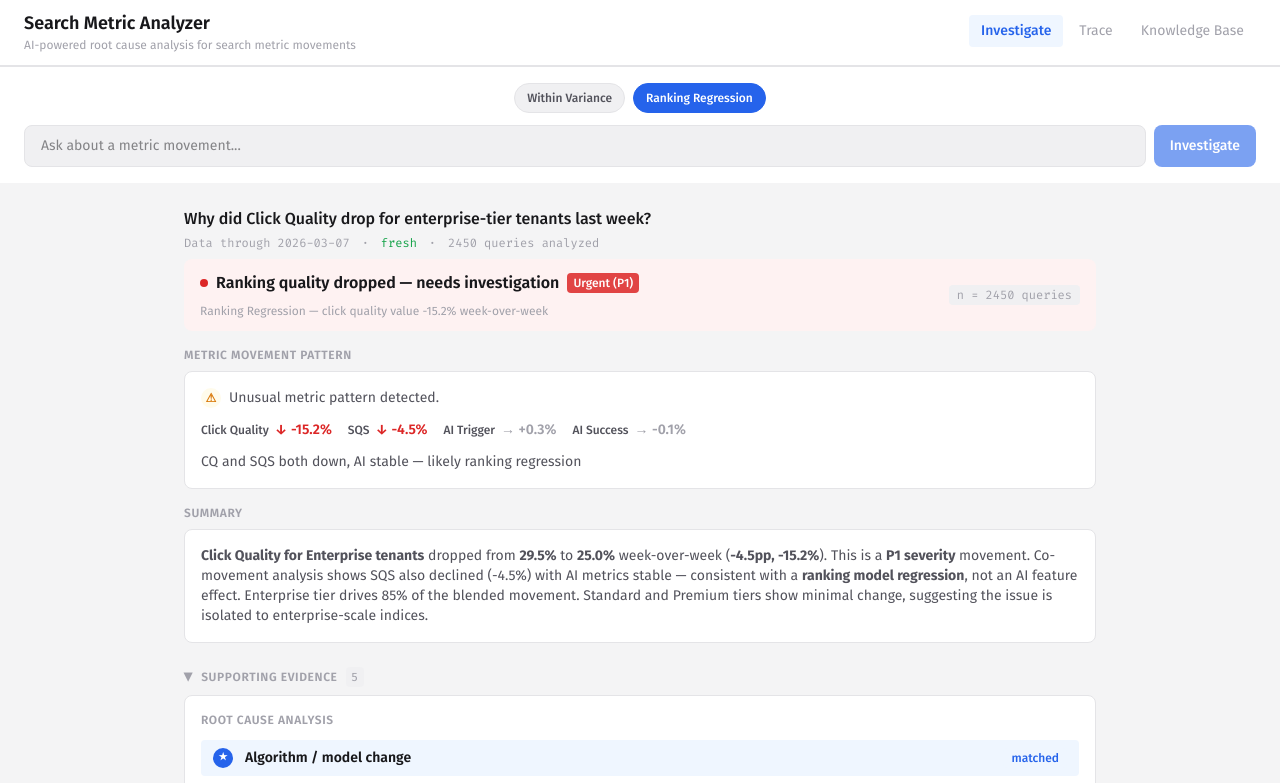
Scenario: App › switches to Trace tab when Trace button is clicked
Click the button "Trace" at (1096, 31), box [1067,15,1125,47]
(page scrolled)
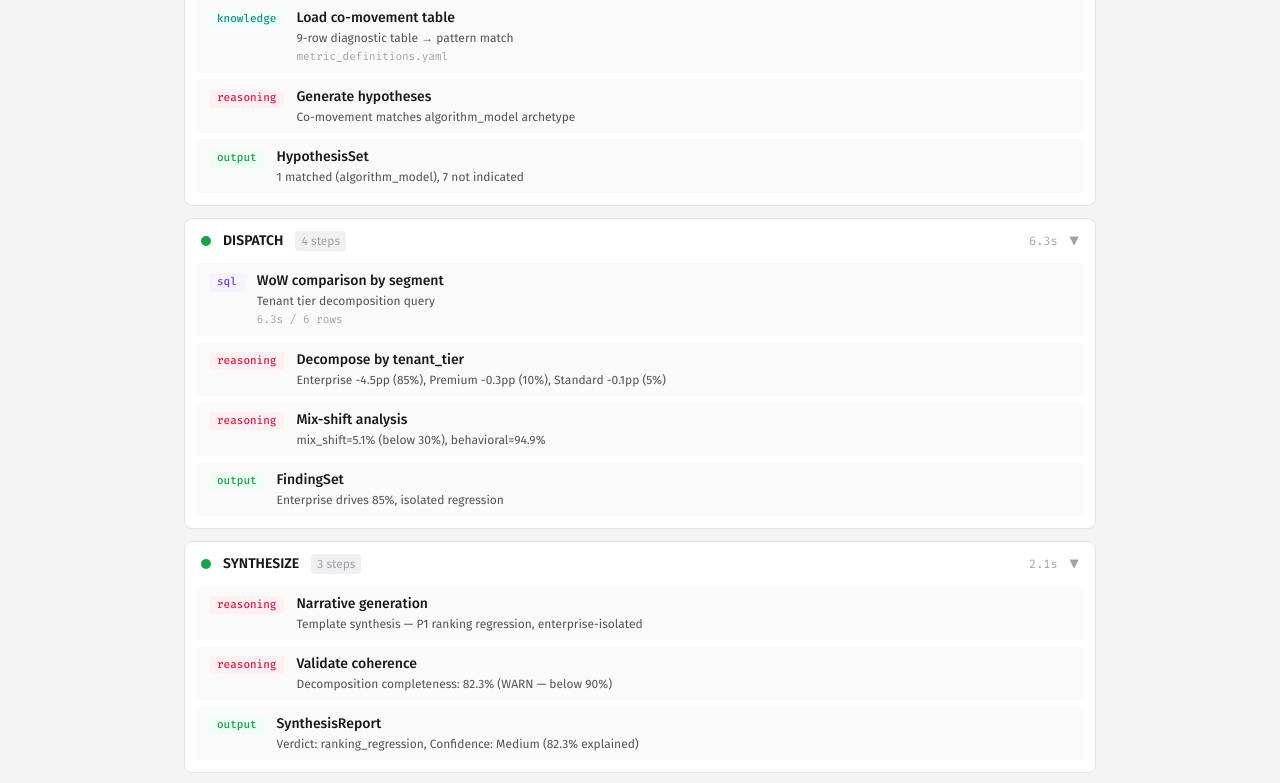
Expected: the text "SYNTHESIZE" is shown, [223,554,299,574]
